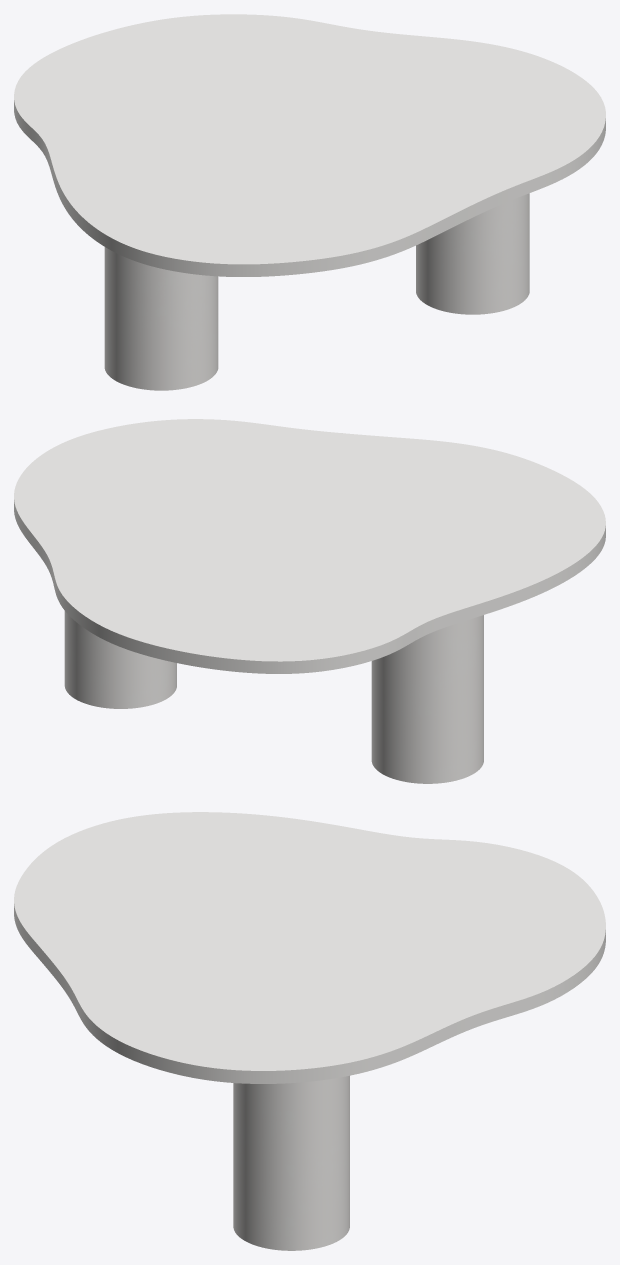
Rendered from purewhite_topone_standard_stream.glb.
The picture shows the model from 3 angles, top to bottom: view 1: azimuth 30°, elevation 25°; view 2: azimuth 150°, elevation 25°; view 3: azimuth 270°, elevation 25°; orthographic projection. The views are drawn at different scales.
Parts seen in each view (by area): view 1: standard_topone, stream; view 2: standard_topone, stream; view 3: standard_topone, stream.
Part boxes in pixels (bbox=[...]): standard_topone: bbox=[14, 14, 605, 276]; stream: bbox=[104, 193, 529, 390]; standard_topone: bbox=[14, 419, 605, 673]; stream: bbox=[64, 611, 483, 783]; standard_topone: bbox=[14, 812, 605, 1083]; stream: bbox=[233, 1075, 349, 1250].
Size of the model in its own units: 6.83 by 2.5 by 6.6.
Materials: 1 (1 with a texture image).
